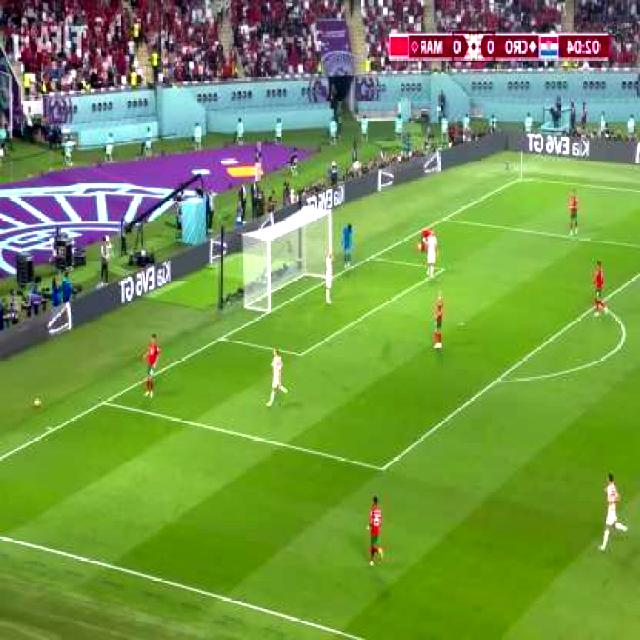bigarea_bottom_inner: (376, 458, 390, 480)
bigarea_top_outter: (440, 213, 449, 224)
bottom_arc_area_intersection: (489, 374, 503, 388)
corner: (515, 177, 528, 183)
smallarea_bottom_inner: (294, 346, 306, 362)
smallarea_bottom_outter: (217, 332, 226, 345)
smallarea_top_inner: (437, 261, 448, 277), (99, 396, 108, 410)
smallarea_top_outter: (366, 252, 377, 262)
